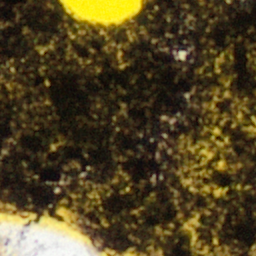air_pores: (59, 0, 145, 28)
cement_matrix: (0, 0, 255, 255), (186, 219, 195, 231), (202, 147, 210, 158), (178, 52, 182, 57)
gravel_crushed_stones: (0, 206, 139, 255), (187, 220, 194, 230), (203, 148, 209, 157), (179, 53, 181, 56)
